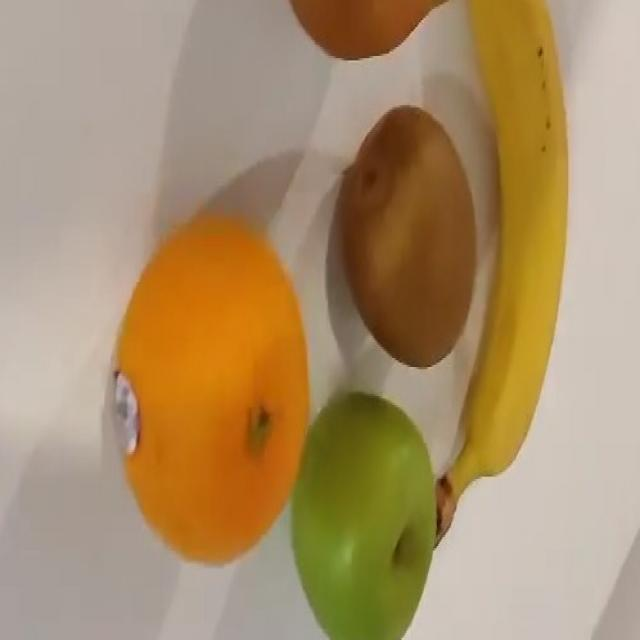Apple: (290, 391, 437, 639)
Banana: (394, 0, 588, 559)
Orange: (111, 213, 310, 566)
